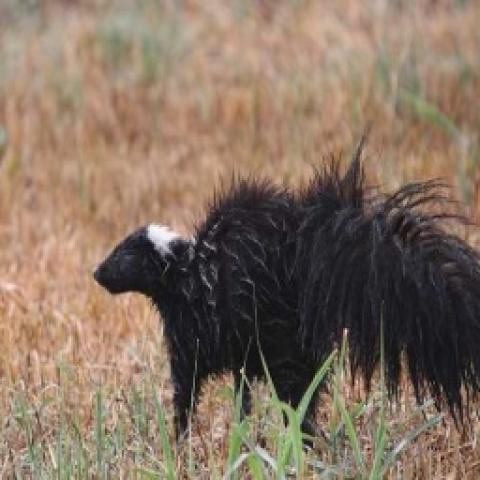small_animal: (88, 126, 478, 452)
